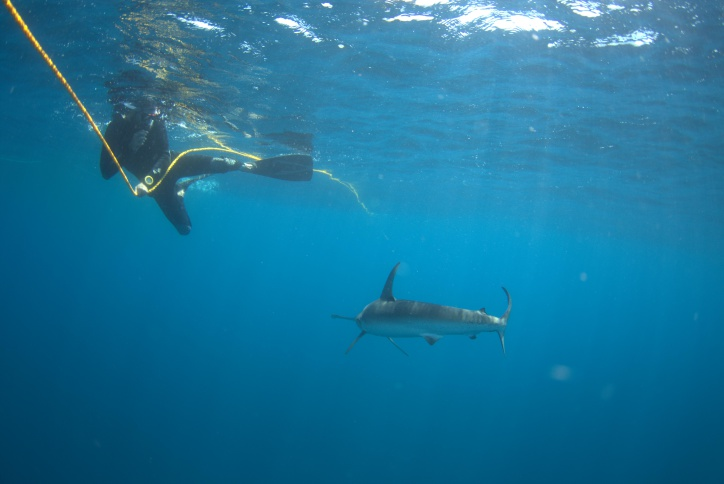Hammer: (322, 251, 548, 400)
